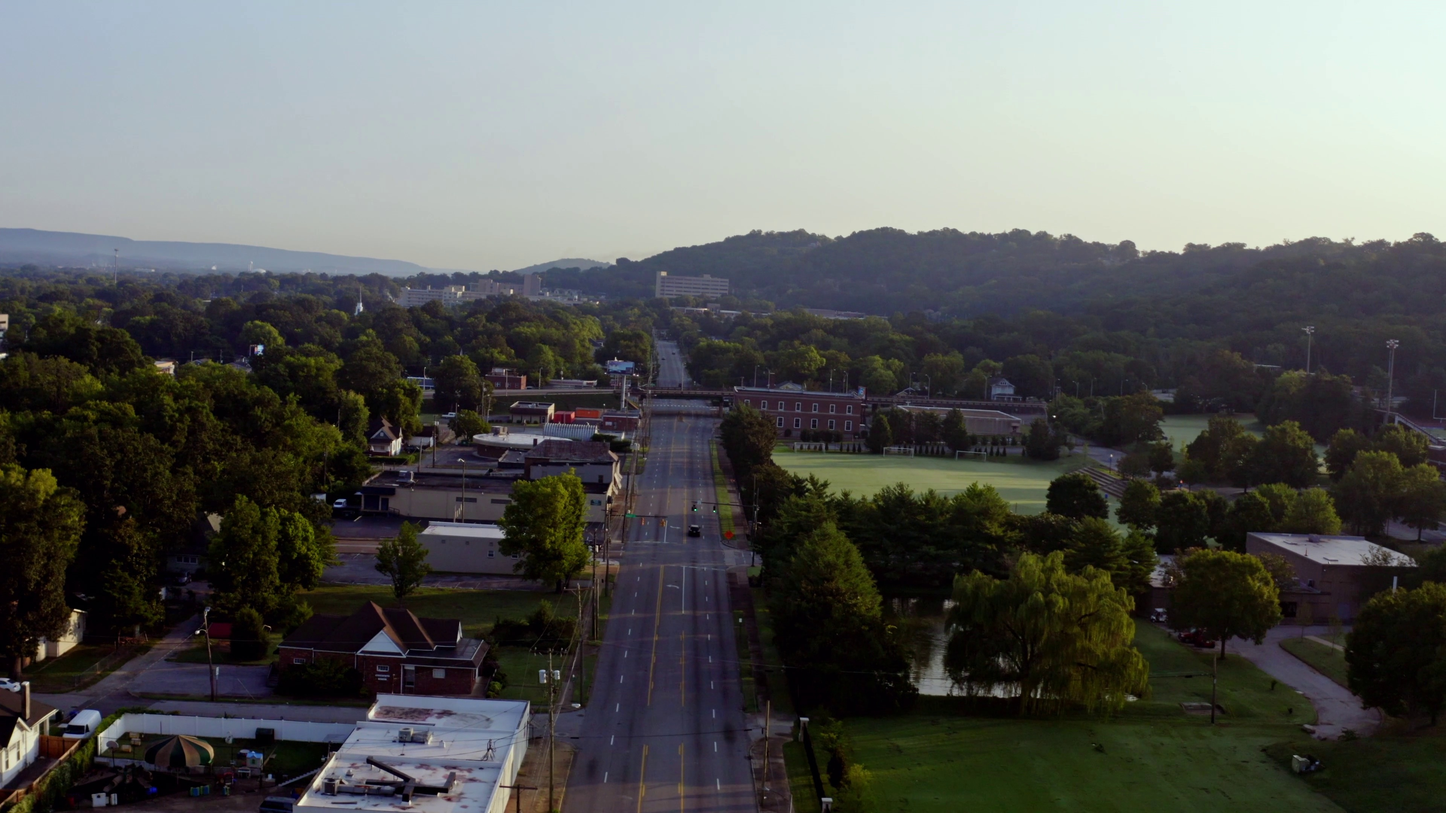Vehicle: (62, 709, 102, 739), (1178, 628, 1203, 642), (0, 677, 21, 693), (688, 525, 700, 537), (332, 498, 346, 507), (672, 352, 675, 355), (662, 358, 666, 360)
